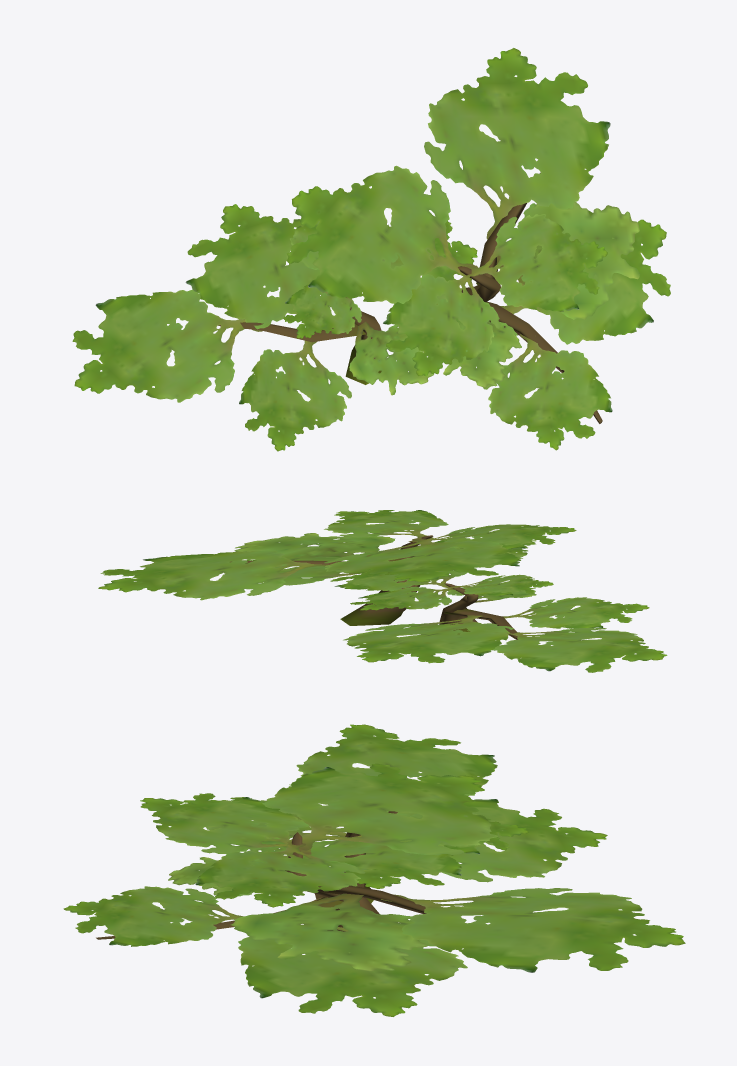
The model's file is liemo_plant_07 (14).fbx.
3 renders of one model, top to bottom at view 1: azimuth 30°, elevation 25°; view 2: azimuth 150°, elevation 25°; view 3: azimuth 270°, elevation 25°, orthographic. The views are drawn at different scales.
Visible parts, largest first — view 1: liemo_plant_07 (14); view 2: liemo_plant_07 (14); view 3: liemo_plant_07 (14).
Part boxes in pixels (x1,y1,x2,y2): liemo_plant_07 (14): [72, 48, 670, 451]; liemo_plant_07 (14): [98, 510, 667, 672]; liemo_plant_07 (14): [63, 724, 685, 1016].
Size of the model in its own units: 6.77 by 1.19 by 5.92.
